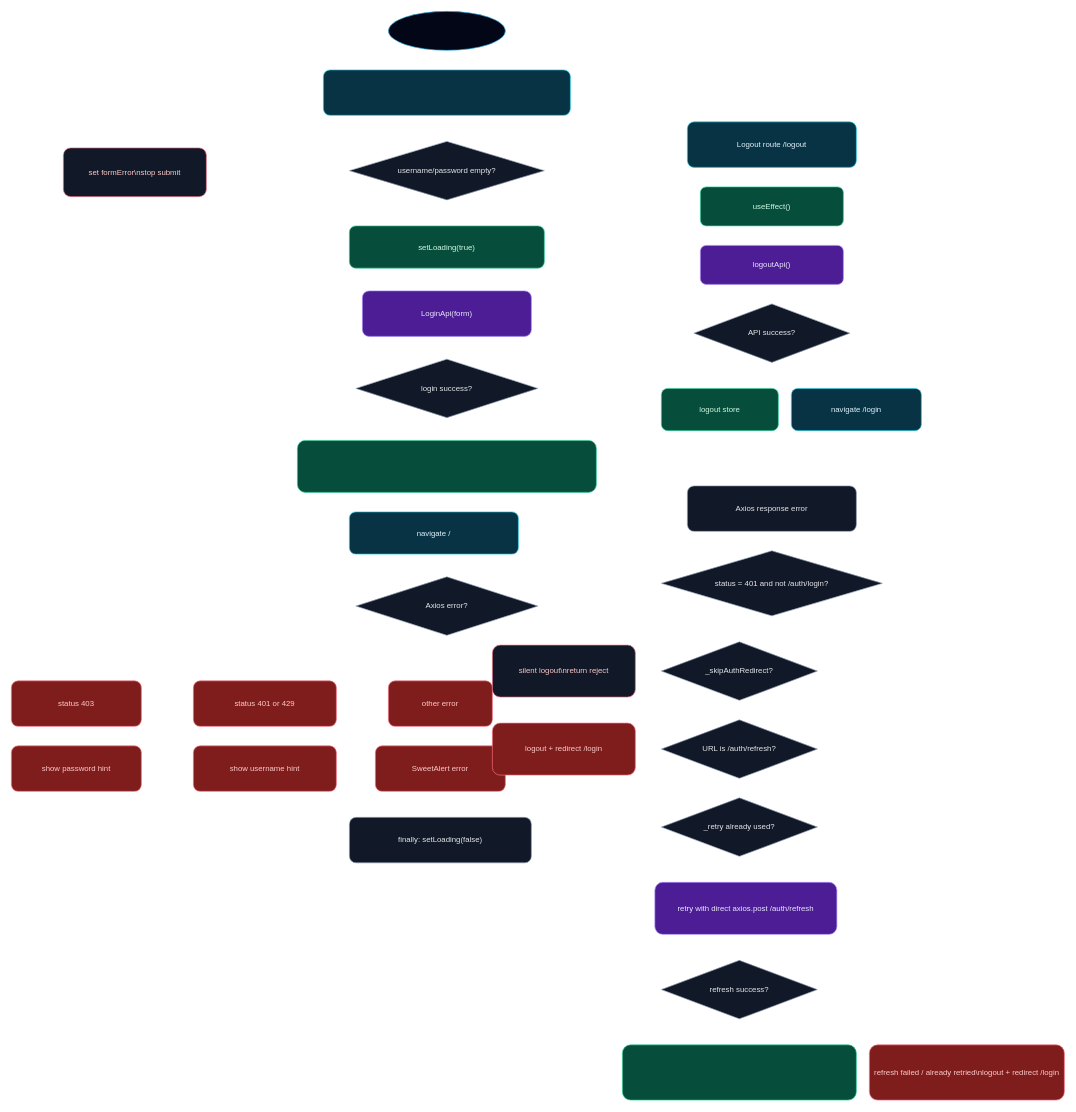
Some shapes in this 1076 by 1112 pixel diagram are drawn without their labels. The shapes that lost their labels are listed below. From the top down, each one's centre as x and y in pixels, then its label:
At point 446,30: "Login submit".
At point 446,92: "SignInForm handleSubmit()".
At point 446,466: "setAuth(id, fullname, profile_image, username, role, permissions)".
At point 739,1072: "setAuth(...) then api.request(original config)".
